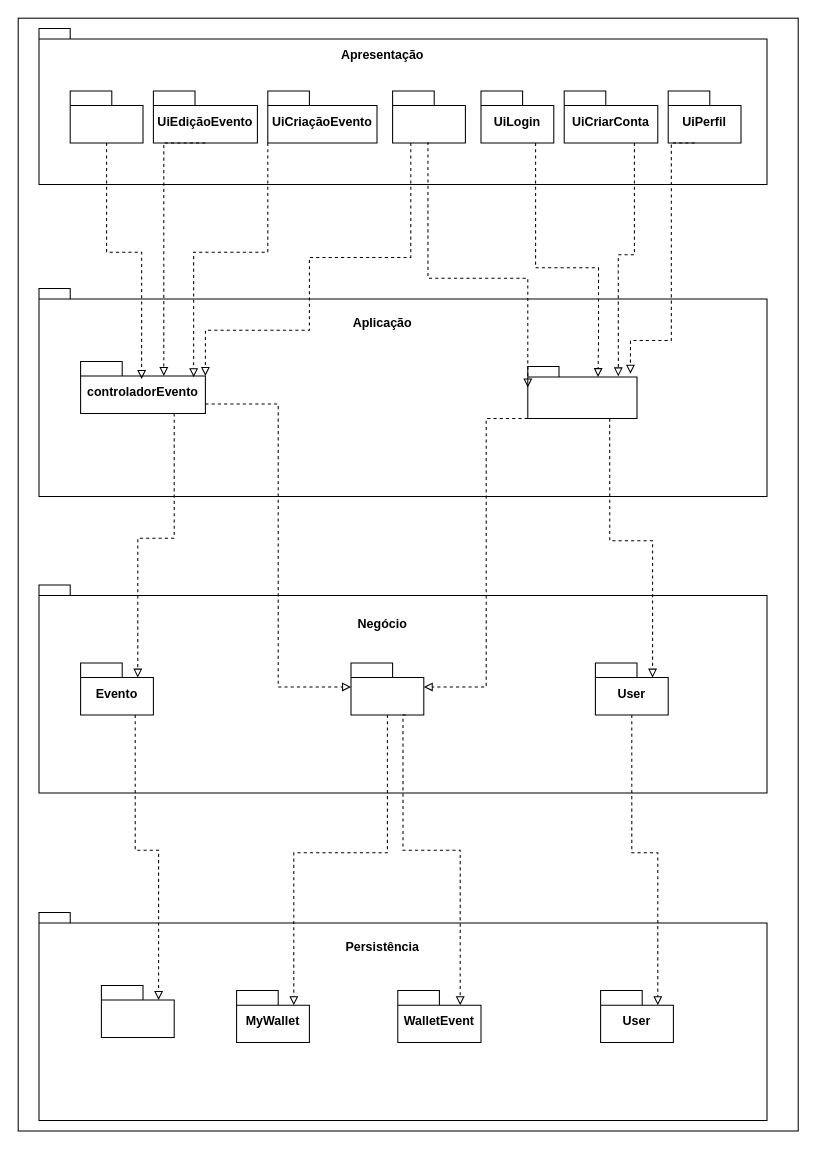
Some shapes in this 816 by 1149 pixel diagram are drawn without their labels. Each missing label, with the centre of its shape:
"controladorPerfil" goes at [582,392].
"Event" goes at [137,1010].
"UiEvento" goes at [106,116].
"UiWallet" goes at [428,116].
"Wallet" goes at [387,688].
